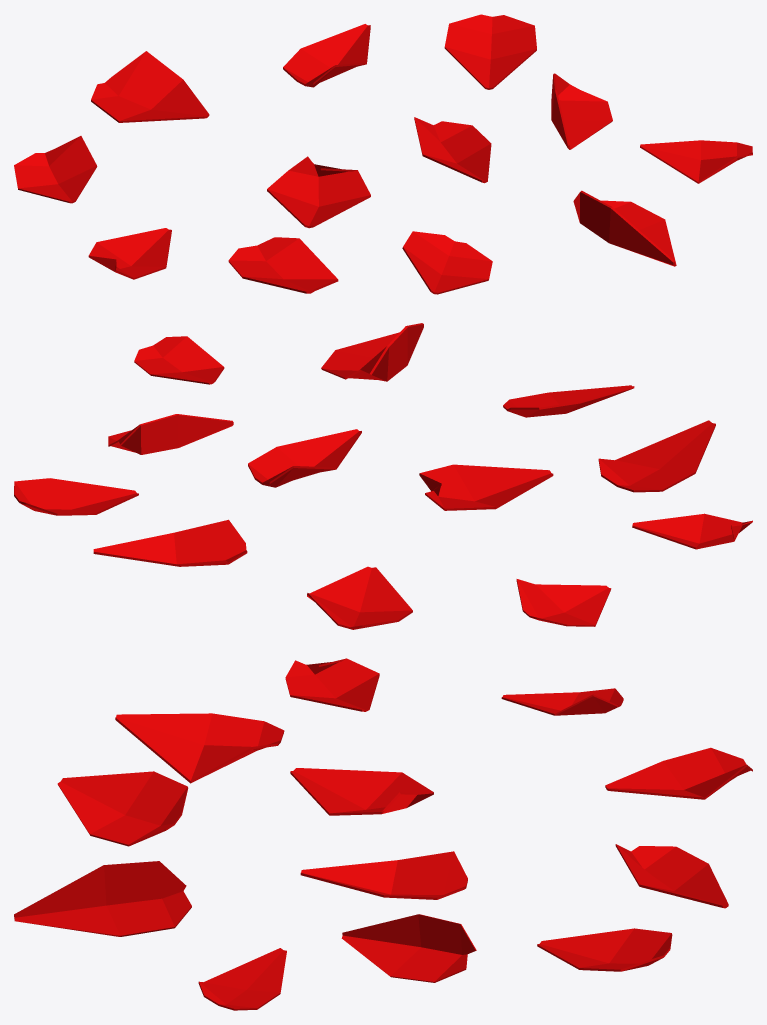
Rendered from rose_3_large.fbx.
The picture shows the model from 3 angles, top to bottom: view 1: azimuth 30°, elevation 25°; view 2: azimuth 150°, elevation 25°; view 3: azimuth 270°, elevation 25°; orthographic projection. The views are drawn at different scales.
Visible parts, largest first — view 1: rose_3_large; view 2: rose_3_large; view 3: rose_3_large.
Boxes of the visible parts, x1=… form: rose_3_large: x1=14, y1=14, x2=752, y2=294; rose_3_large: x1=14, y1=323, x2=752, y2=629; rose_3_large: x1=14, y1=658, x2=752, y2=1010.
Size of the model in its own units: 16.98 by 1.18 by 15.38.
